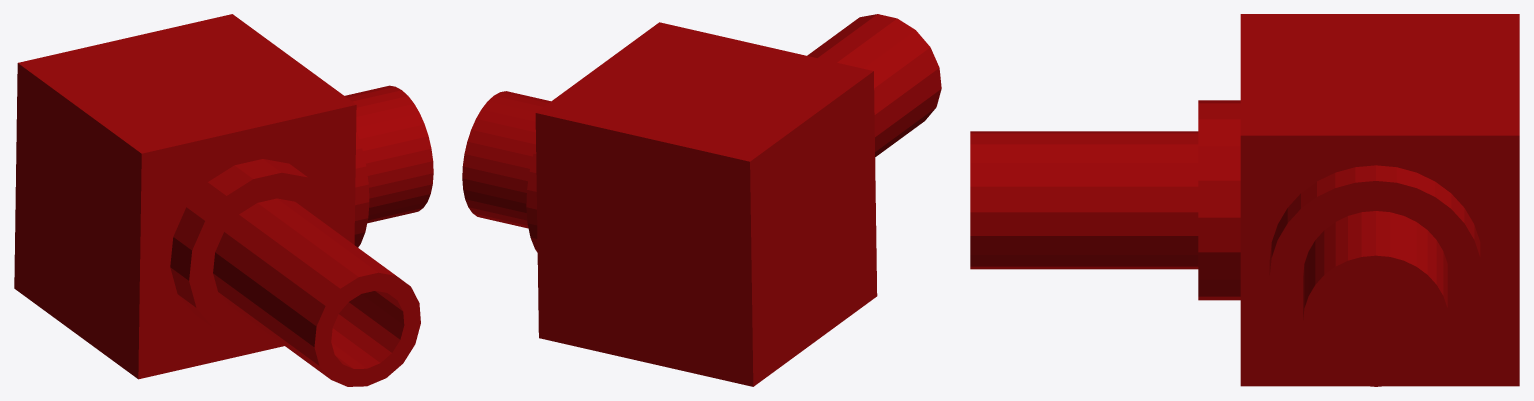
Rendered from assembly_regulator_part_red.dae.
3 renders of one model, left to right at view 1: azimuth 30°, elevation 25°; view 2: azimuth 150°, elevation 25°; view 3: azimuth 270°, elevation 25°, orthographic. The views are drawn at different scales.
Visible parts, largest first — view 1: Out_Regulator; view 2: Out_Regulator; view 3: Out_Regulator.
Part boxes in pixels (x1,y1,x2,y2): Out_Regulator: (14,14,433,386); Out_Regulator: (462,14,941,386); Out_Regulator: (970,14,1519,386).
Size of the model in its own units: 0.1015 by 0.1327 by 0.0684.
